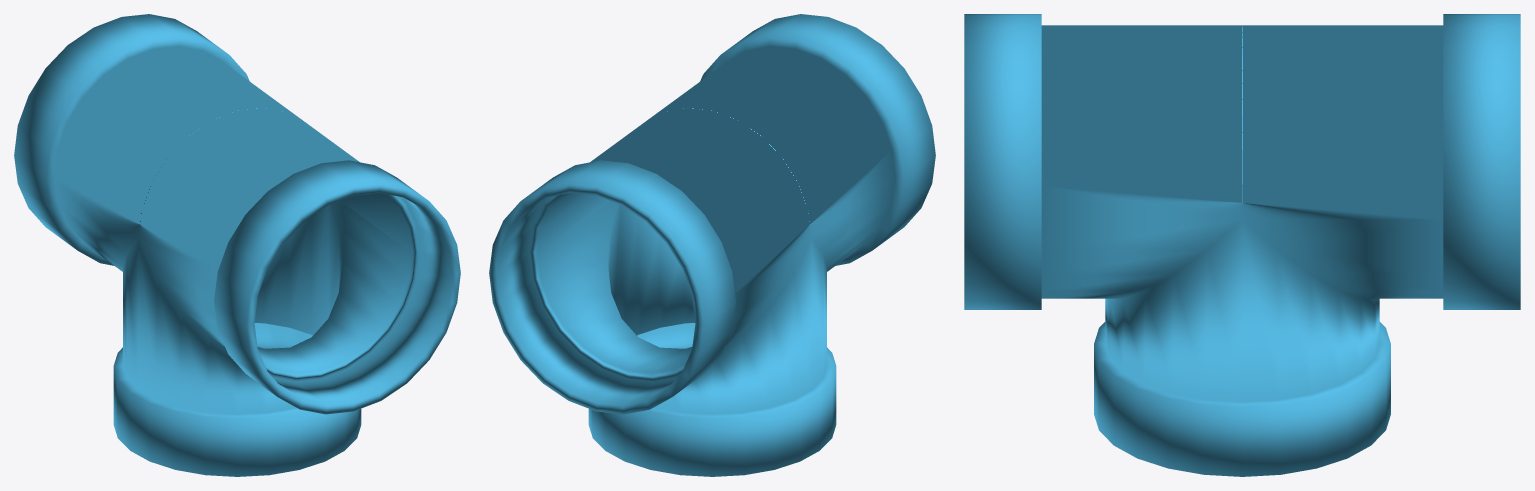
File: Env_Pipe_T.fbx
The picture shows the model from 3 angles, left to right: view 1: azimuth 30°, elevation 25°; view 2: azimuth 150°, elevation 25°; view 3: azimuth 270°, elevation 25°; orthographic projection. The views are drawn at different scales.
Parts seen in each view (by area): view 1: Pipe_T_Junction; view 2: Pipe_T_Junction; view 3: Pipe_T_Junction.
Boxes of the visible parts, x1,y1,x2,y2 form: Pipe_T_Junction: (14, 14, 460, 476); Pipe_T_Junction: (489, 14, 935, 476); Pipe_T_Junction: (964, 14, 1520, 476).
Size of the model in its own units: 9.61 by 13.81 by 18.
